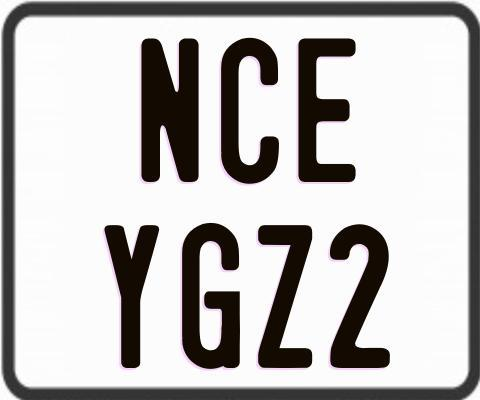2: (327, 223, 391, 370)
C: (218, 36, 279, 182)
E: (295, 35, 353, 185)
G: (181, 221, 242, 372)
N: (140, 36, 198, 180)
Y: (104, 222, 165, 371)
Z: (256, 224, 313, 373)
